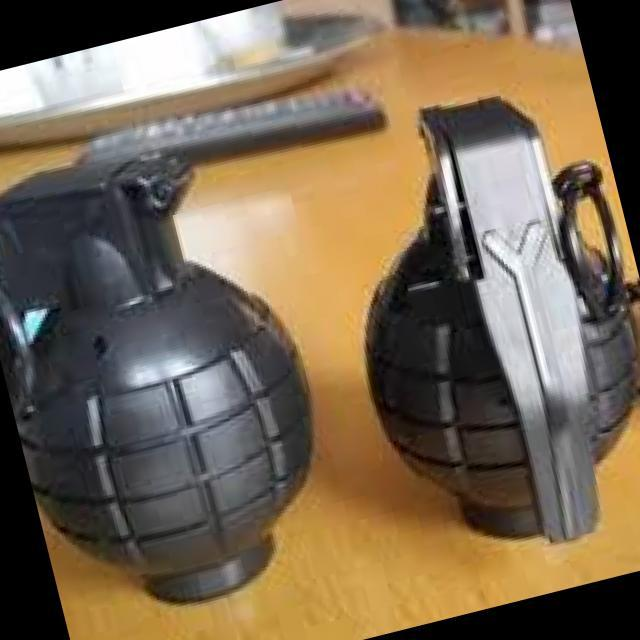grenade: (0, 129, 351, 623)
